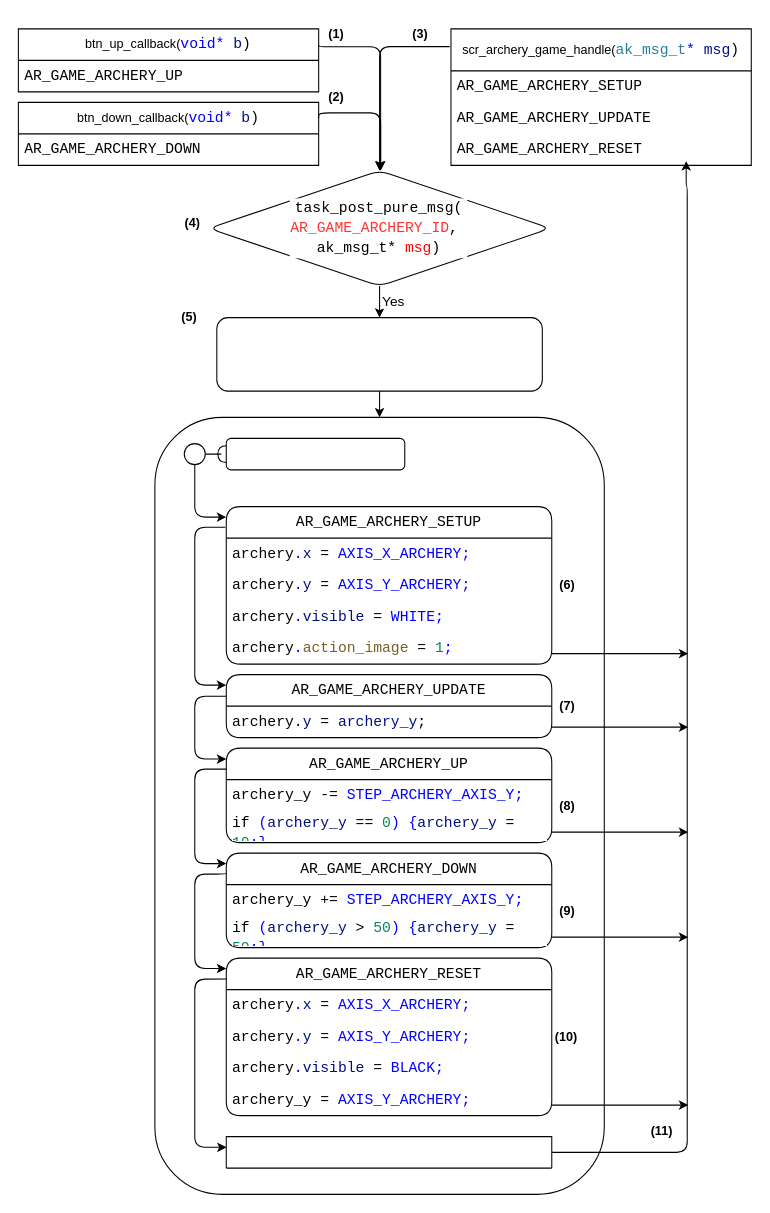
Image size: 770x1213. Some labels were removed from this diagram. The centre of each missing label's shape, as x and y in pixels:
"ar_game_archery_handle( ak_msg_t * msg )" goes at point 379,354.
"default" goes at point 388,1152.
"switch ( msg -> signal )" goes at point 315,453.
